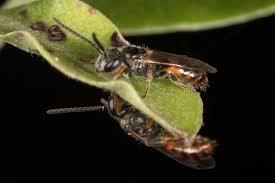Lasioglossum: (82, 79, 223, 174), (68, 16, 223, 95)
